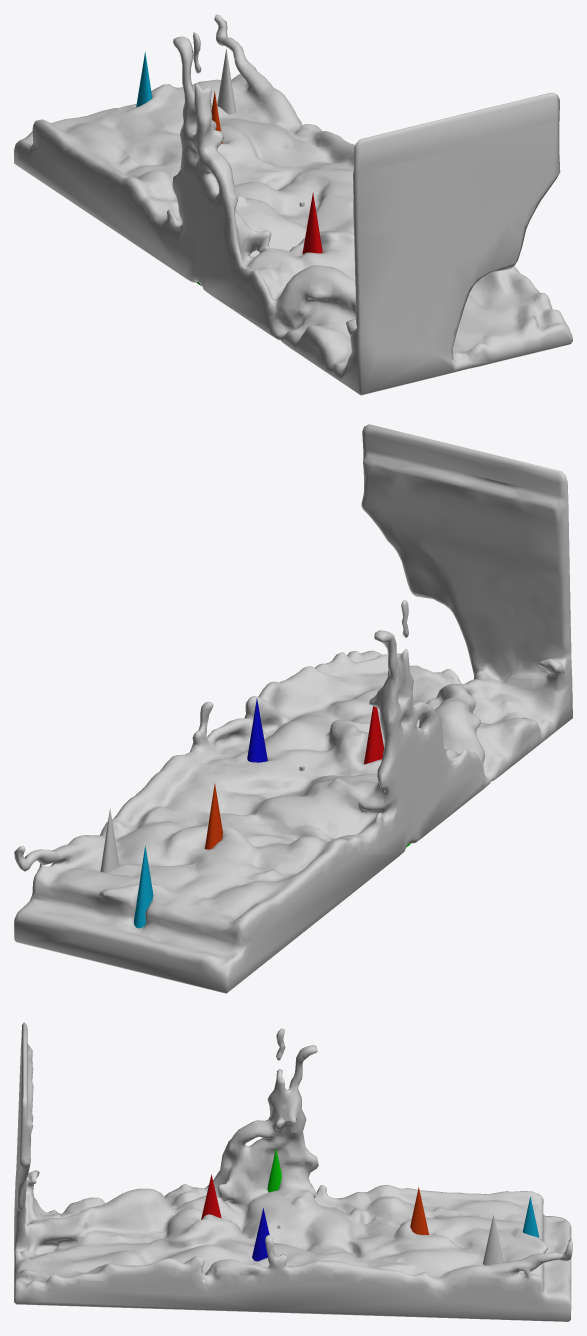
3 renders of one model, top to bottom at view 1: azimuth 30°, elevation 25°; view 2: azimuth 150°, elevation 25°; view 3: azimuth 270°, elevation 25°, orthographic. The views are drawn at different scales.
Visible parts, largest first — view 1: Liquid_Domain, 円錐, 円錐.001; view 2: Liquid_Domain, 円錐.005, 円錐.002, 円錐.001; view 3: Liquid_Domain, 円錐, 円錐.002, 円錐.004, 円錐.001, 円錐.003.
Boxes of the visible parts, left/top/right/bottom form: Liquid_Domain: left=14, top=14, right=572, bottom=395; 円錐: left=217, top=48, right=235, bottom=114; 円錐.001: left=302, top=192, right=322, bottom=254; Liquid_Domain: left=14, top=424, right=572, bottom=993; 円錐.005: left=134, top=846, right=153, bottom=928; 円錐.002: left=247, top=698, right=267, bottom=762; 円錐.001: left=364, top=695, right=384, bottom=764; Liquid_Domain: left=14, top=1022, right=572, bottom=1321; 円錐: left=483, top=1214, right=503, bottom=1265; 円錐.002: left=252, top=1208, right=269, bottom=1261; 円錐.004: left=410, top=1187, right=428, bottom=1234; 円錐.001: left=201, top=1174, right=221, bottom=1219; 円錐.003: left=267, top=1149, right=281, bottom=1192.
Bounding box in the file's own units: 129 × 158 × 362.
